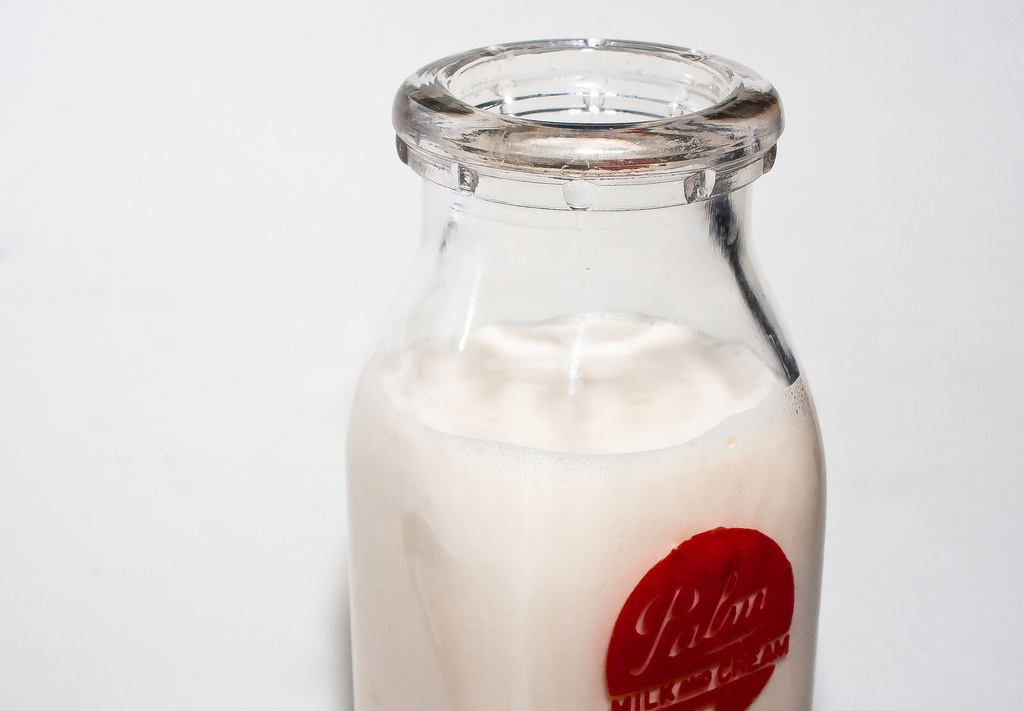glass of milk: (318, 25, 862, 708)
